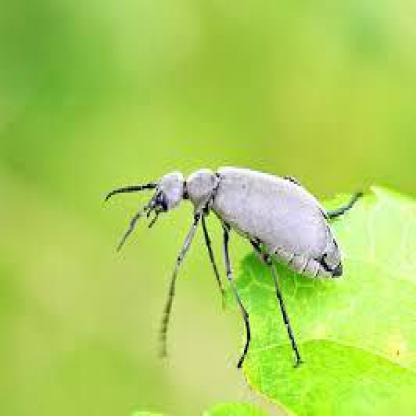blister beetle: (105, 165, 343, 279)
